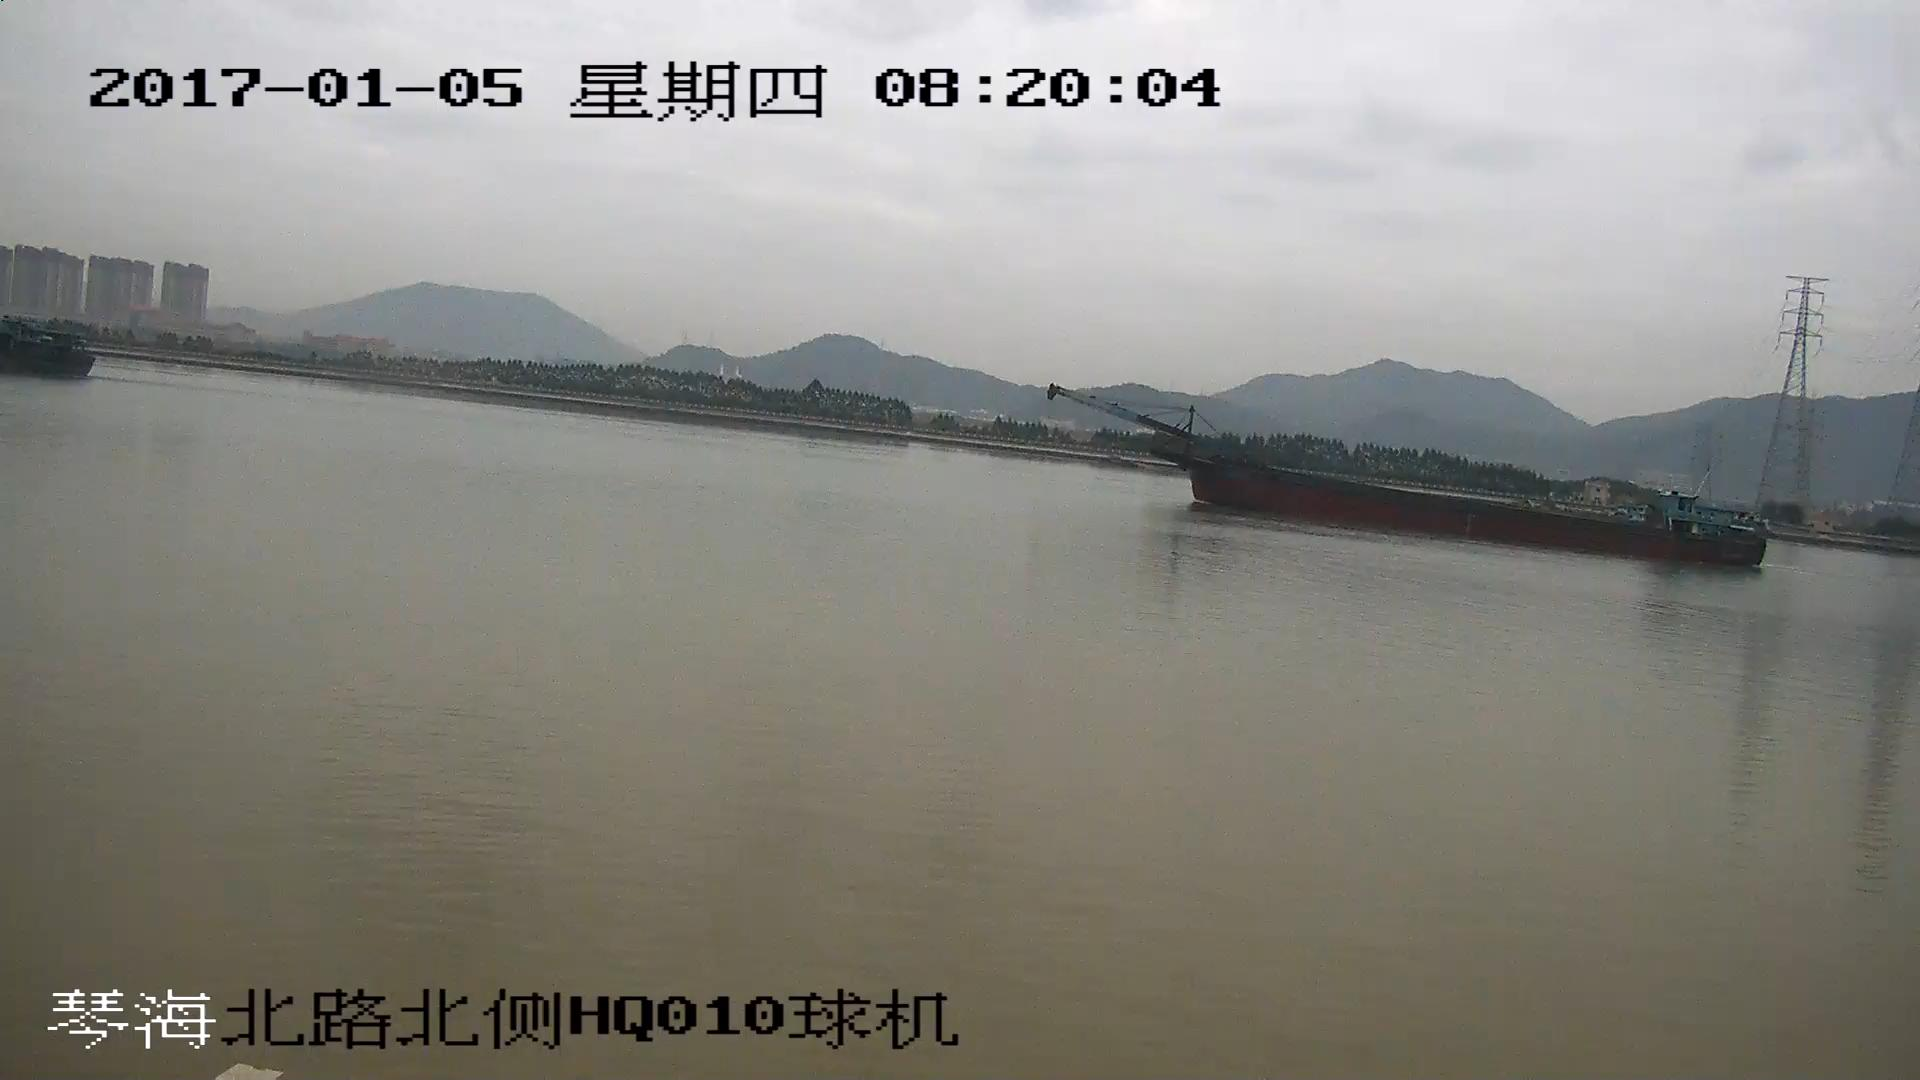bulk cargo carrier: (1055, 387, 1765, 565)
